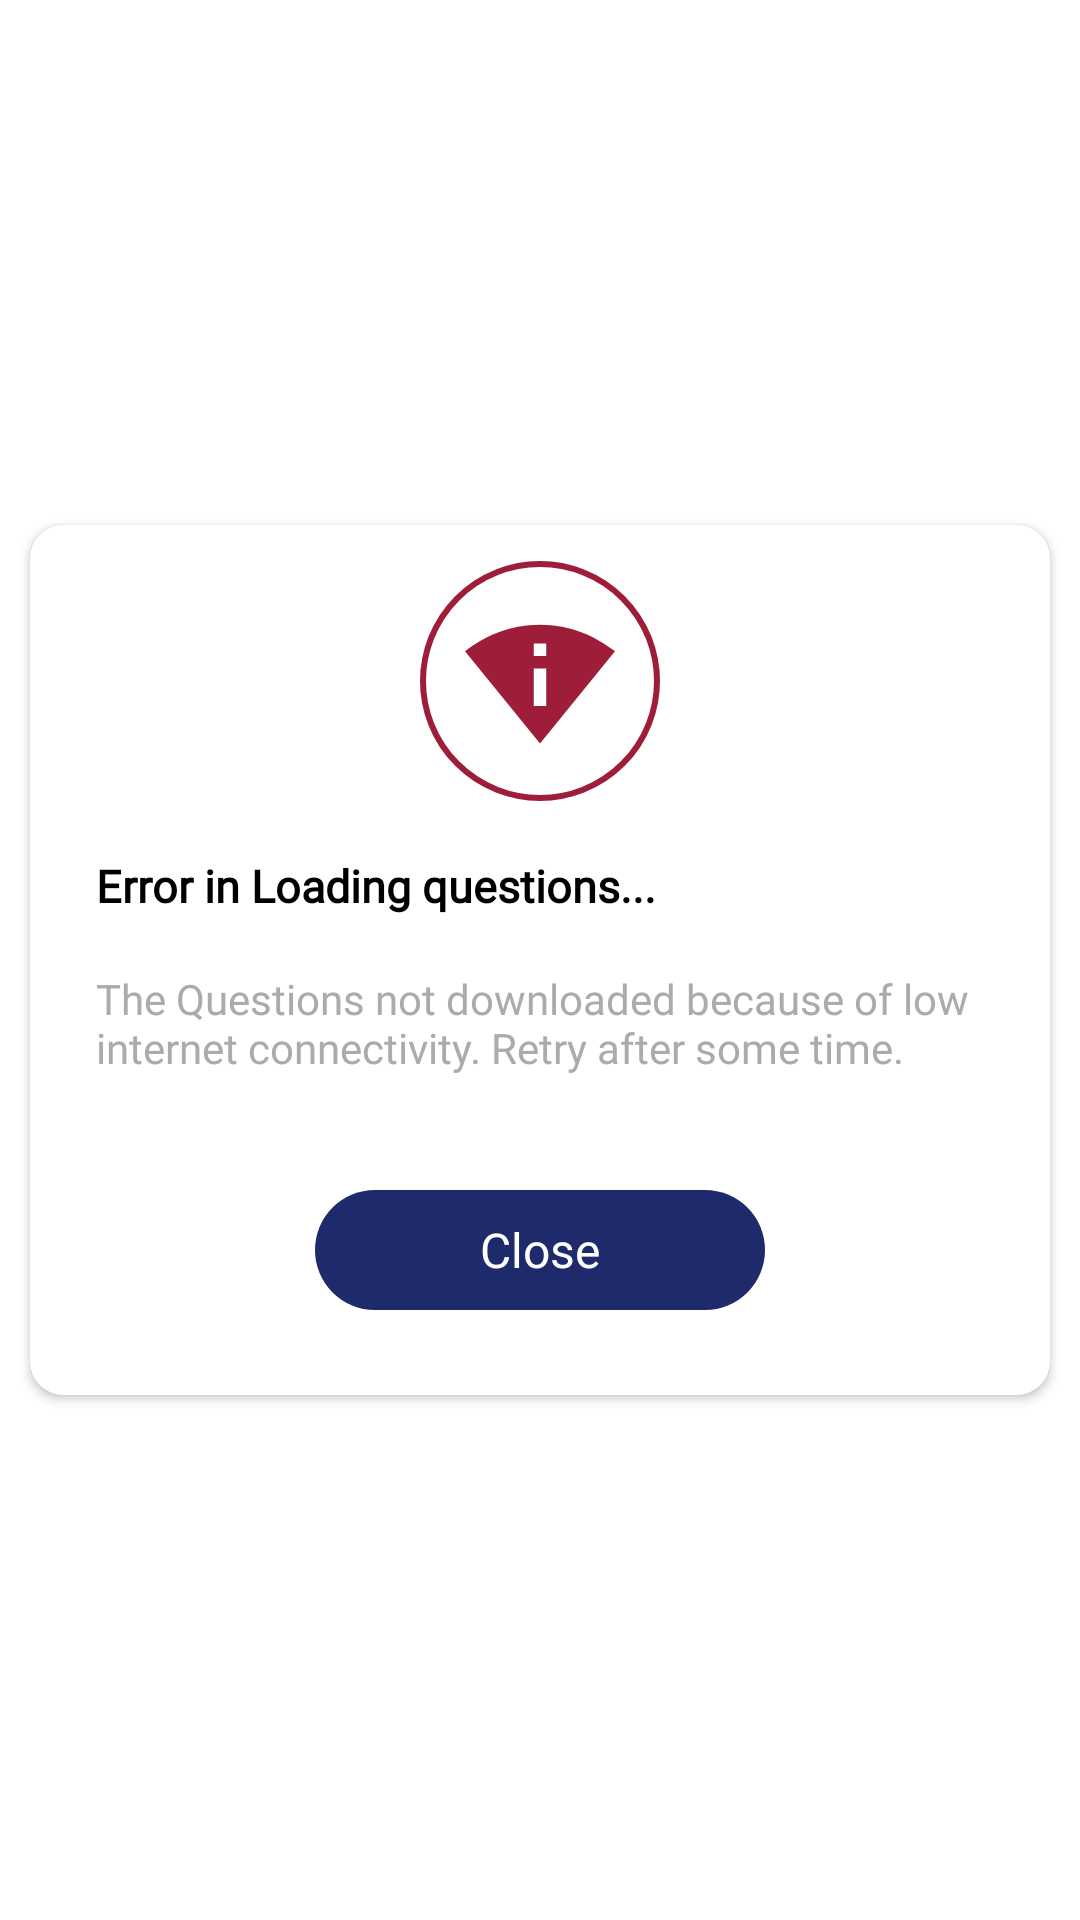

Icons on this 1080 x 1920 Android screen, each with its box as (x1, y1, x2, y2):
no connection: (420, 561, 660, 801)
